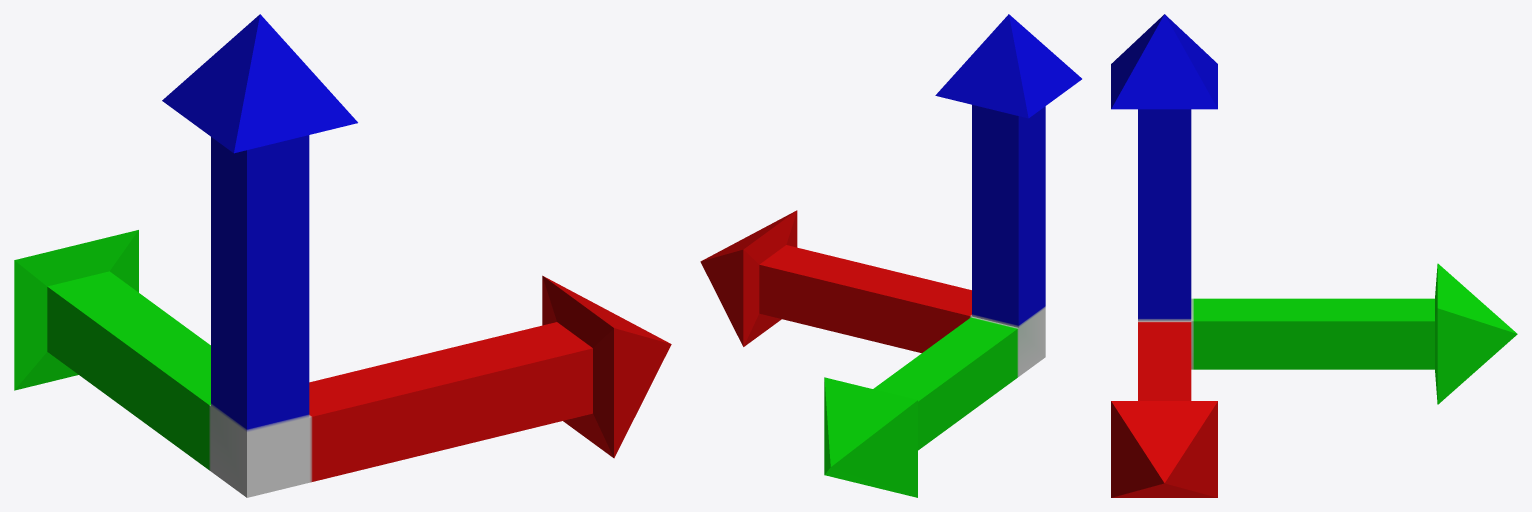
File: axis.glb
3 views of the same model, side by side, from view 1: azimuth 30°, elevation 25°; view 2: azimuth 150°, elevation 25°; view 3: azimuth 270°, elevation 25° (orthographic). The views are drawn at different scales.
Visible parts, largest first — view 1: axis; view 2: axis; view 3: axis.
Part boxes in pixels (bbox=[...]): axis: bbox=[14, 14, 671, 497]; axis: bbox=[700, 14, 1081, 497]; axis: bbox=[1111, 14, 1517, 497].
Size of the model in its own units: 1.52 by 1.52 by 1.52.
